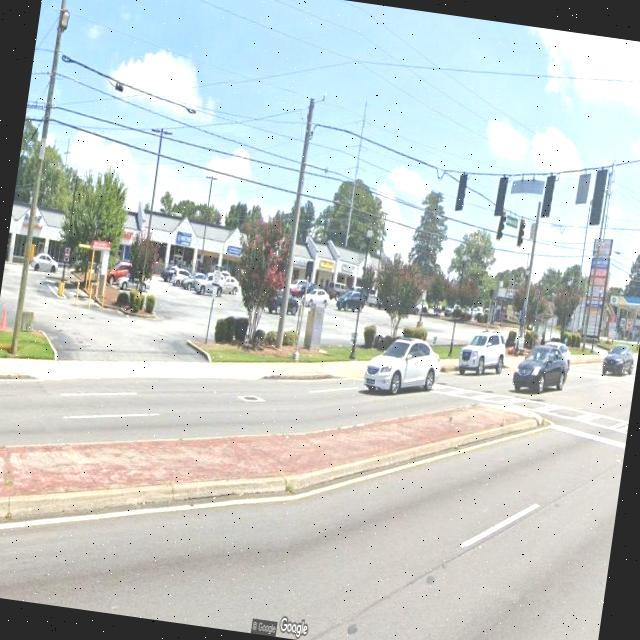seating: (514, 336, 528, 355)
shelter: (532, 311, 558, 353)
trash_can: (508, 340, 514, 355)
